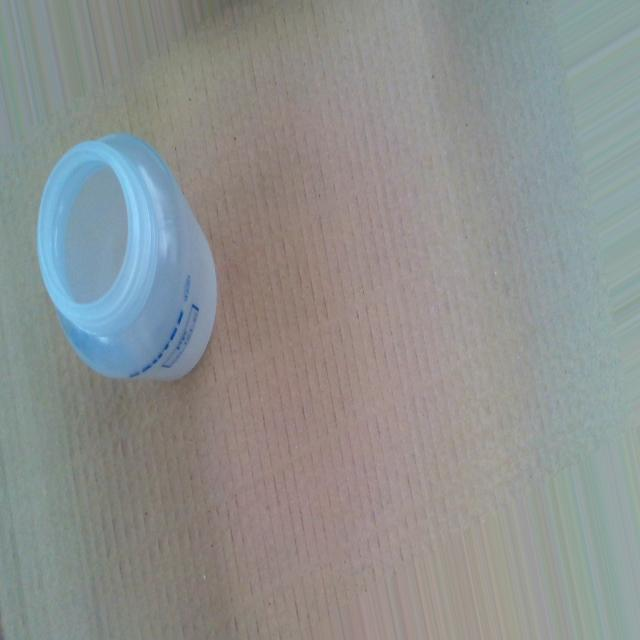bottle: (38, 133, 218, 385)
